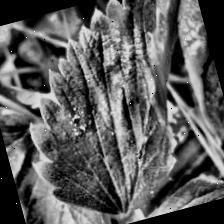Powdery Mildew Leaf: (0, 0, 224, 224), (162, 0, 224, 199)
